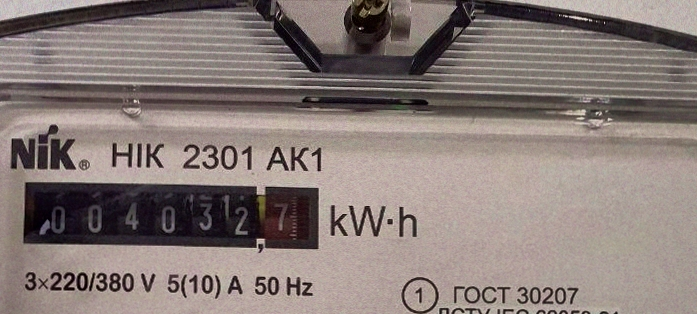0: (83, 201, 103, 234), (47, 201, 66, 234), (157, 201, 176, 234)
2: (231, 202, 249, 236)
3: (195, 199, 213, 231)
4: (120, 198, 140, 234)
7: (272, 199, 289, 232)
screen: (12, 173, 326, 260)
